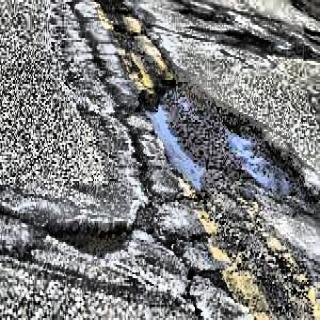crack: (123, 122, 226, 320), (75, 6, 120, 95)
pothole: (126, 72, 319, 210), (44, 218, 133, 259), (229, 29, 270, 49), (306, 26, 320, 39)
